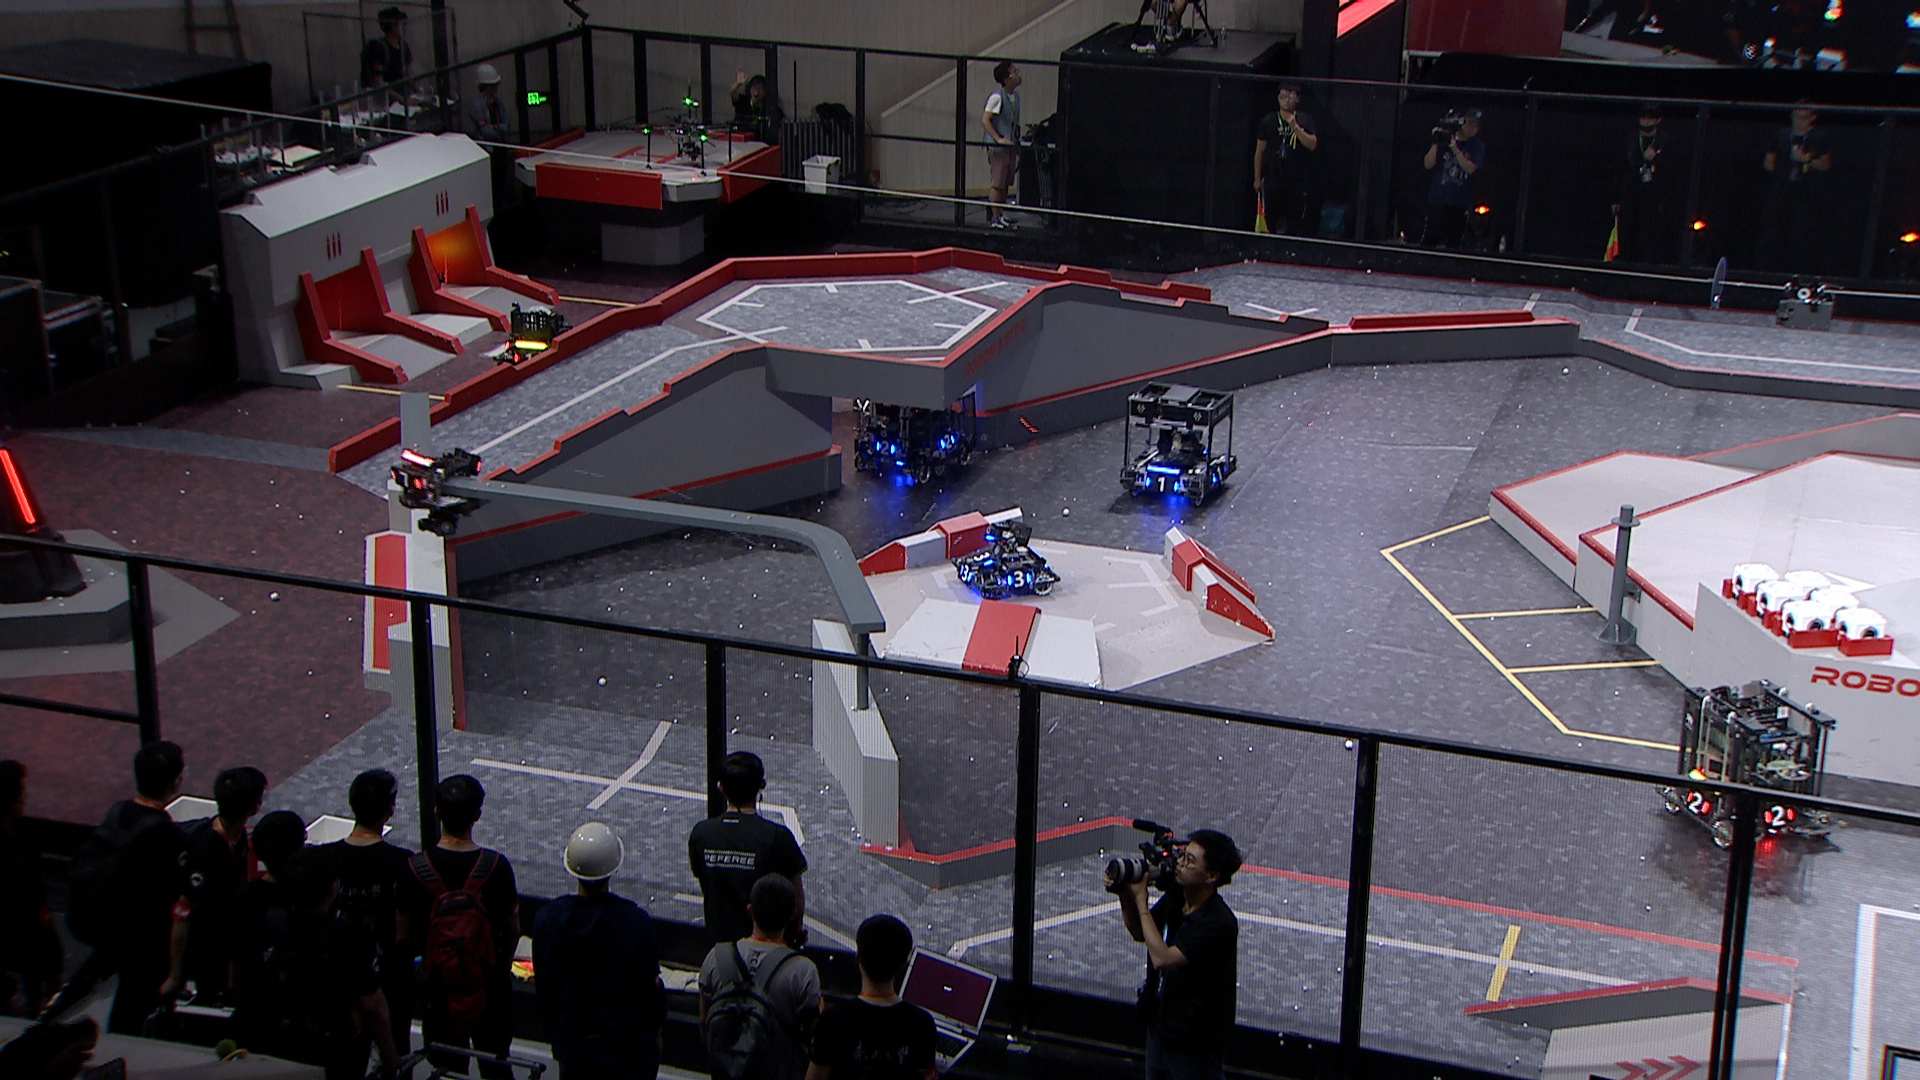armor: (1683, 789, 1709, 818), (389, 469, 425, 491), (1139, 476, 1179, 495), (1207, 462, 1232, 488), (1764, 804, 1793, 825), (1007, 571, 1033, 585), (874, 440, 895, 458), (512, 351, 533, 367), (975, 549, 993, 566), (956, 564, 975, 582), (940, 433, 956, 450)
car: (1652, 678, 1846, 851), (851, 360, 986, 491), (1117, 382, 1244, 512), (948, 514, 1058, 597), (491, 302, 574, 380)
watcher: (385, 444, 487, 542)
